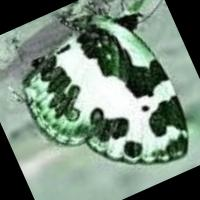butterfly: (23, 14, 189, 165)
